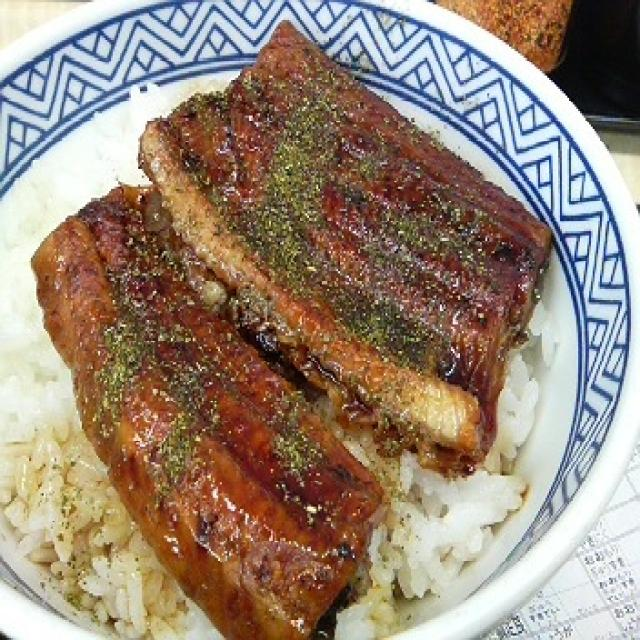熟制海鲜: (11, 29, 584, 620)
